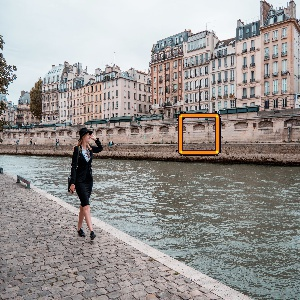square: (177, 112, 222, 157)
